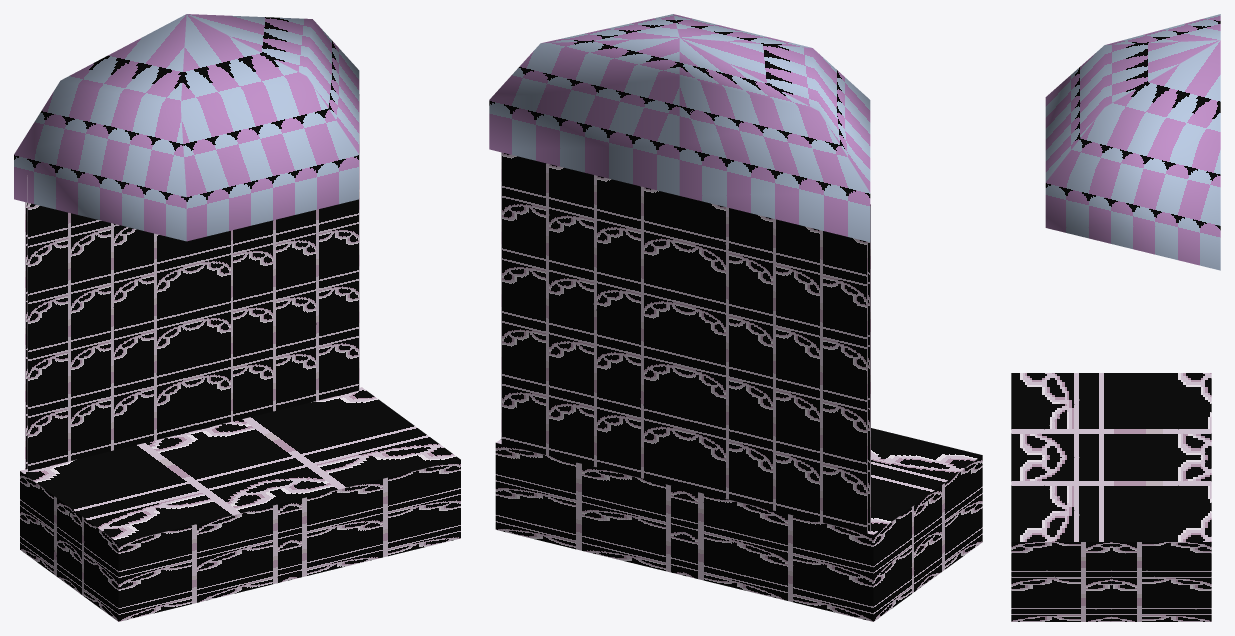
The model's file is 3635kg_case_02.gltf.
3 views of the same model, side by side, from view 1: azimuth 30°, elevation 25°; view 2: azimuth 150°, elevation 25°; view 3: azimuth 270°, elevation 25° (orthographic). The views are drawn at different scales.
Parts seen in each view (by area): view 1: 3635kg_case_02; view 2: 3635kg_case_02; view 3: 3635kg_case_02.
Boxes of the visible parts, left/top/right/bottom form: 3635kg_case_02: left=14, top=14, right=460, bottom=621; 3635kg_case_02: left=489, top=14, right=982, bottom=621; 3635kg_case_02: left=1011, top=14, right=1220, bottom=621.
Bounding box in the file's own units: 2.02 × 2.74 × 1.04.
Materials: 3 (3 with a texture image).
